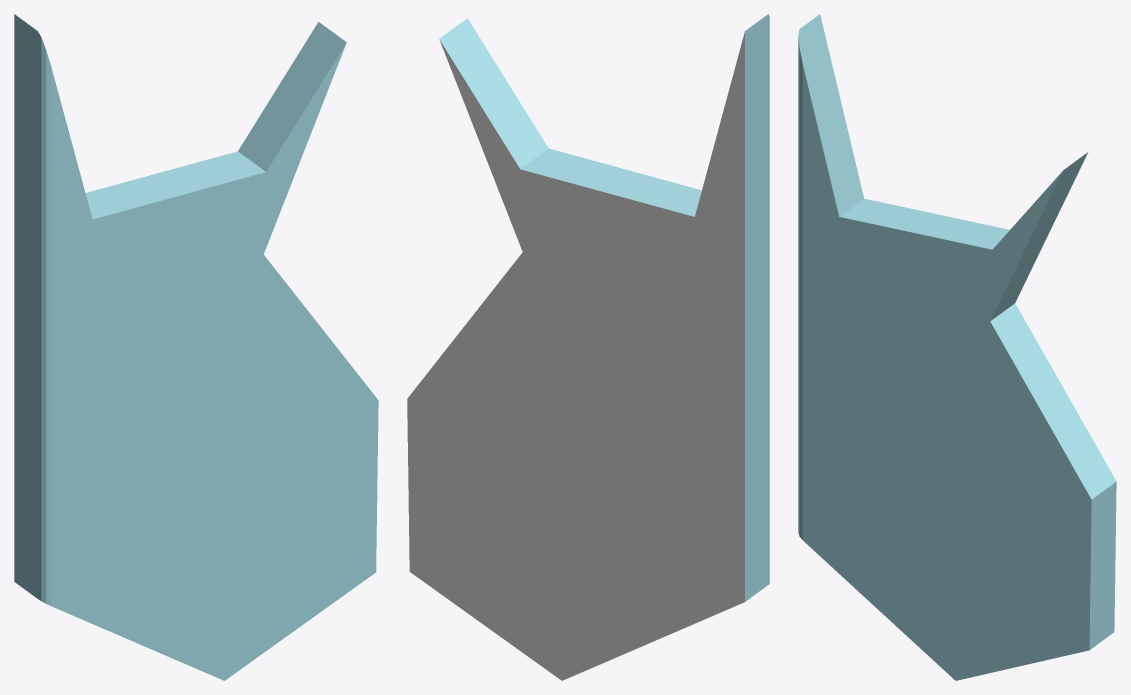
The model's file is chrome6.glb.
3 renders of one model, left to right at view 1: azimuth 30°, elevation 25°; view 2: azimuth 150°, elevation 25°; view 3: azimuth 330°, elevation 25°, orthographic. The views are drawn at different scales.
Visible parts, largest first — view 1: Plane.007; view 2: Plane.007; view 3: Plane.007.
Boxes of the visible parts, x1,y1,x2,y2 form: Plane.007: [14, 14, 378, 680]; Plane.007: [407, 14, 769, 680]; Plane.007: [798, 14, 1116, 680].
Size of the model in its own units: 34.25 by 67.29 by 5.
